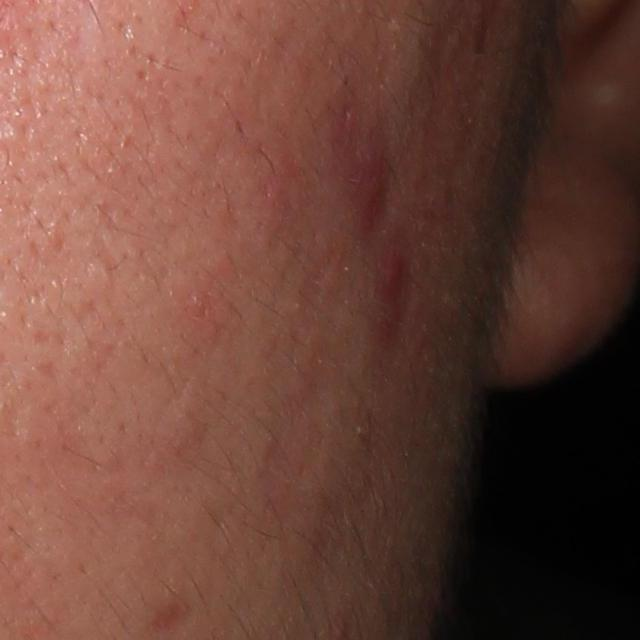papule: (353, 159, 394, 230), (376, 245, 411, 294)
